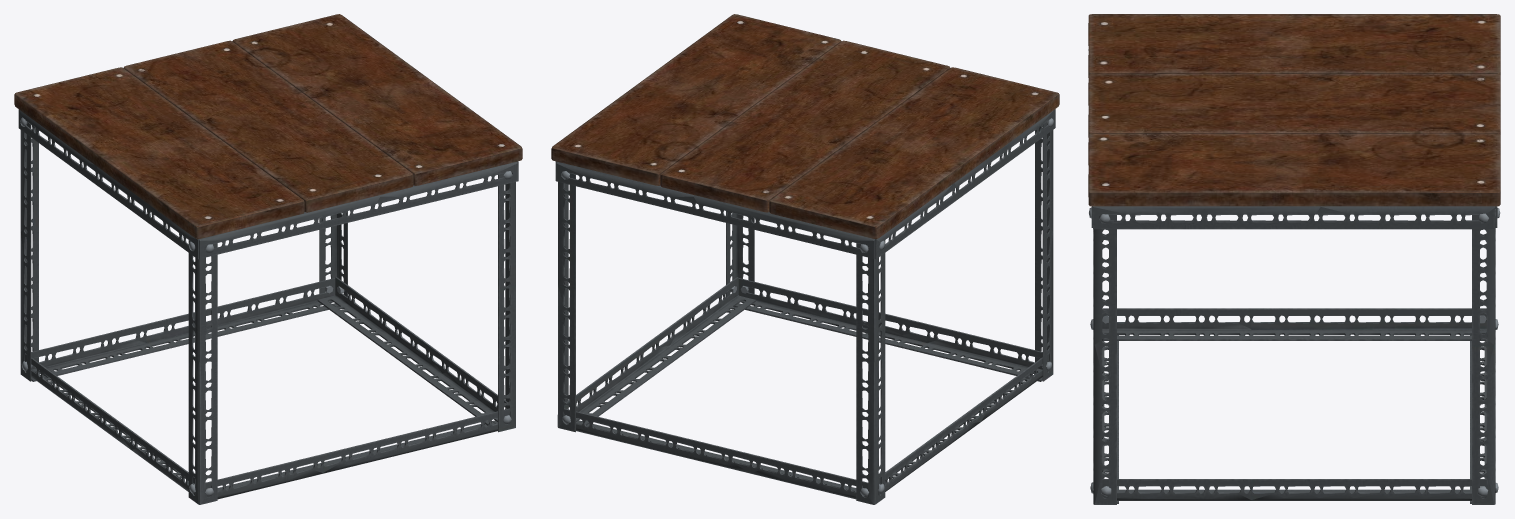
The model's file is coffee-table-industrial.glb.
3 renders of one model, left to right at view 1: azimuth 30°, elevation 25°; view 2: azimuth 150°, elevation 25°; view 3: azimuth 270°, elevation 25°, orthographic. The views are drawn at different scales.
Visible parts, largest first — view 1: coffee-table-industrial; view 2: coffee-table-industrial; view 3: coffee-table-industrial.
Boxes of the visible parts, x1,y1,x2,y2 form: coffee-table-industrial: (14,14,522,504); coffee-table-industrial: (551,14,1059,504); coffee-table-industrial: (1088,14,1500,504).
Size of the model in its own units: 0.7772 by 0.6382 by 0.7571.
Materials: 2 (2 with a texture image).
